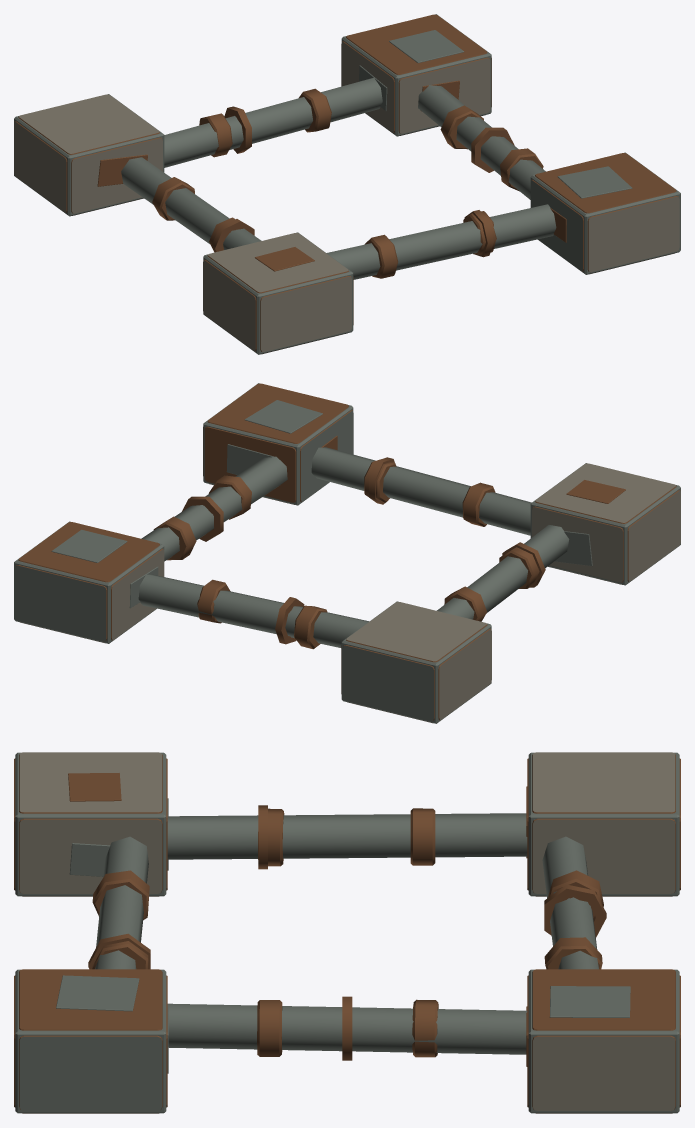
The model's file is R4C_ROD_FRAME.fbx.
3 renders of one model, top to bottom at view 1: azimuth 30°, elevation 25°; view 2: azimuth 150°, elevation 25°; view 3: azimuth 270°, elevation 25°, orthographic. The views are drawn at different scales.
Parts seen in each view (by area): view 1: R4C_ROD_FRAME; view 2: R4C_ROD_FRAME; view 3: R4C_ROD_FRAME.
Boxes of the visible parts, box(x1,y1,x2,y2) form: R4C_ROD_FRAME: box(14, 14, 680, 354); R4C_ROD_FRAME: box(14, 383, 680, 723); R4C_ROD_FRAME: box(14, 752, 680, 1113).
Bounding box in the file's own units: 1.62 × 0.232 × 1.62.
